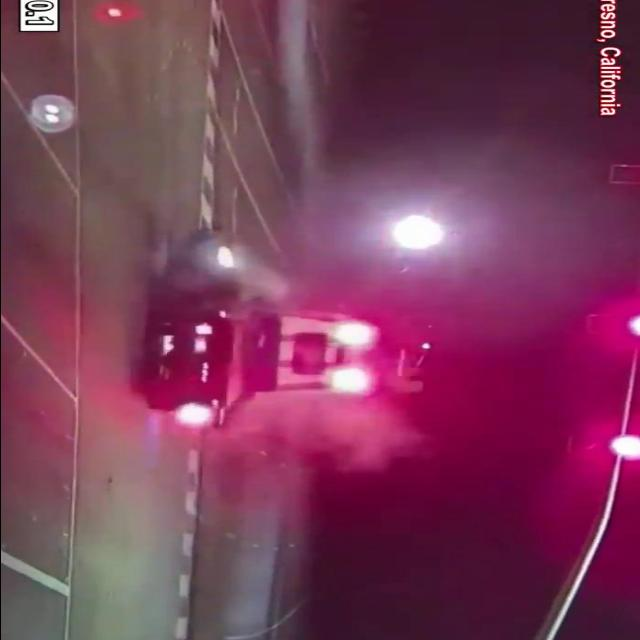accident: (129, 227, 389, 436)
